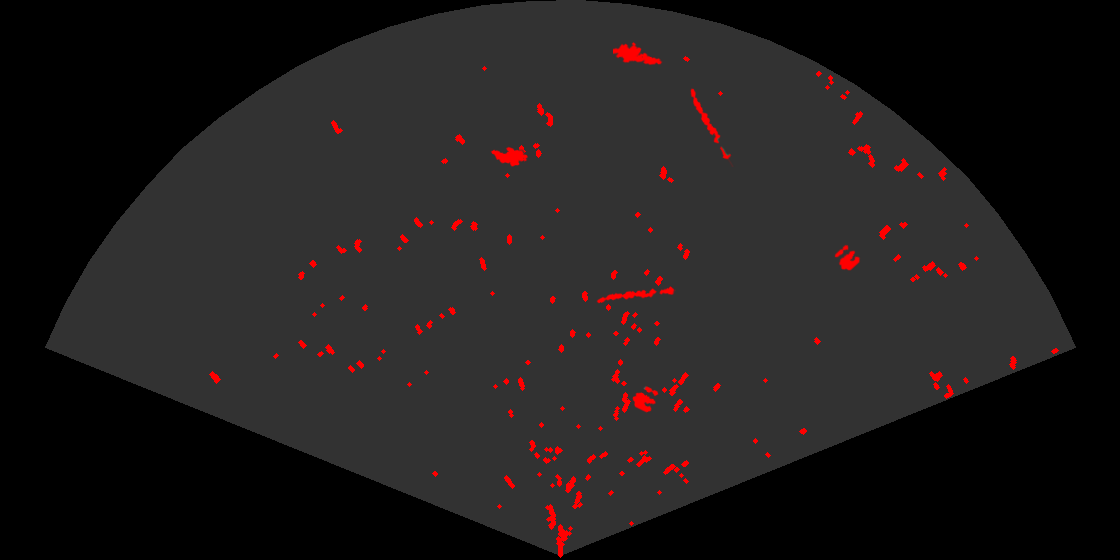AUV: (489, 145, 530, 168)
ball: (631, 385, 660, 414), (833, 243, 862, 272)
chain: (689, 87, 735, 167), (595, 285, 676, 305)
frogman: (613, 41, 663, 67)
